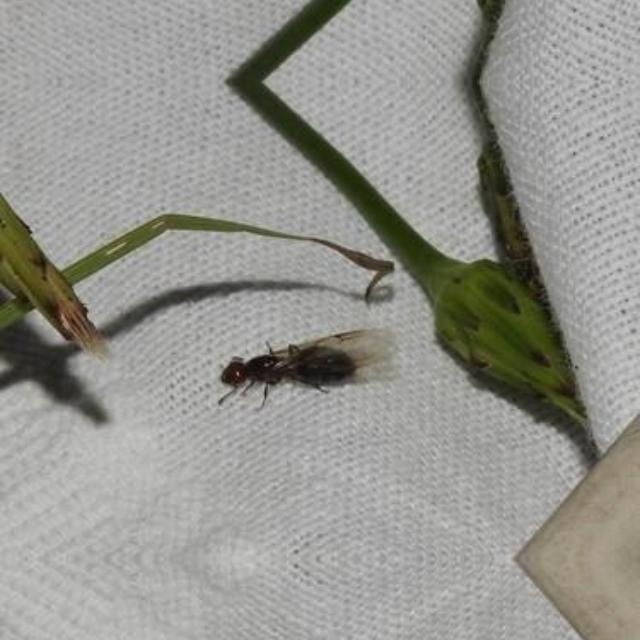Crematogaster: (206, 331, 364, 402)
